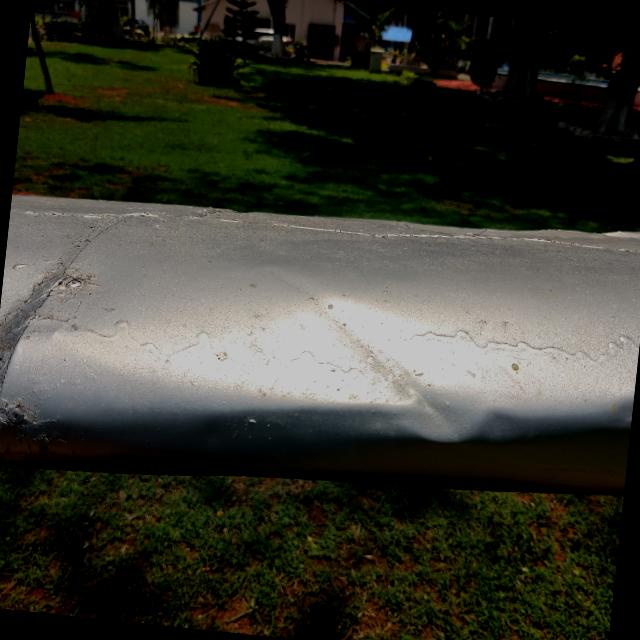dent: (276, 270, 552, 480)
